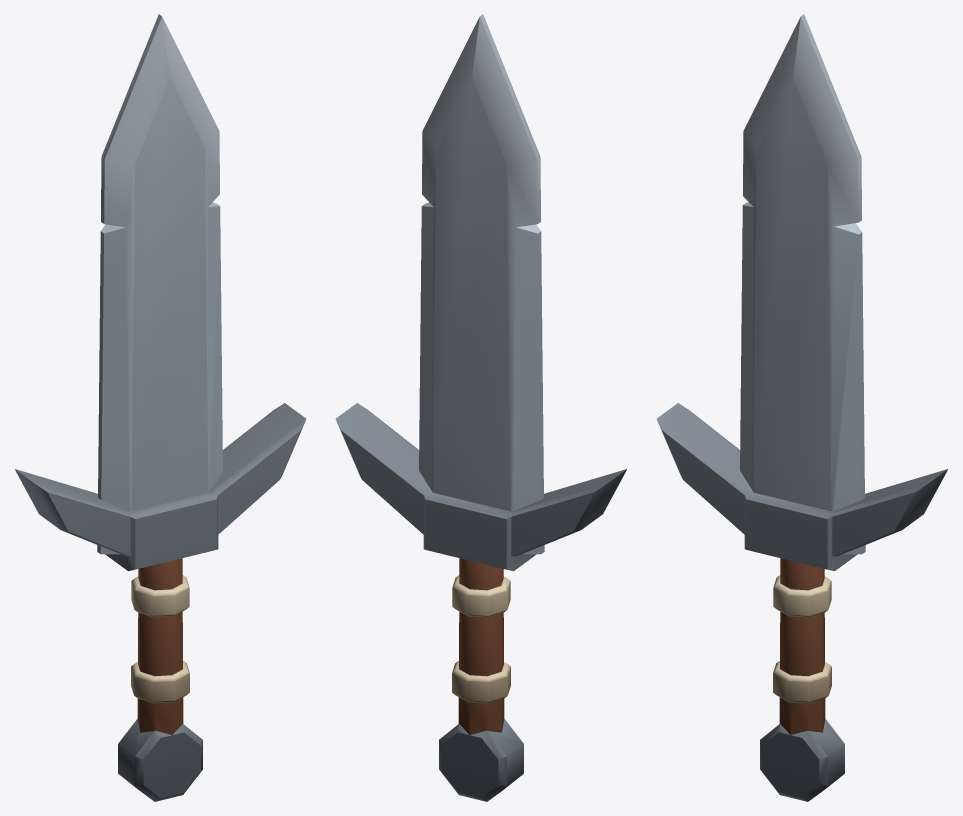
File: broadsword_steel.glb
3 views of the same model, side by side, from view 1: azimuth 30°, elevation 25°; view 2: azimuth 150°, elevation 25°; view 3: azimuth 330°, elevation 25° (orthographic).
Visible parts, largest first — view 1: Item; view 2: Item; view 3: Item.
Part boxes in pixels (<box>): Item: <box>15,14,306,801</box>; Item: <box>335,14,626,801</box>; Item: <box>656,14,947,801</box>.
Bounding box in the file's own units: 0.66 × 1.81 × 0.132.
Materials: 2 (2 with a texture image).
